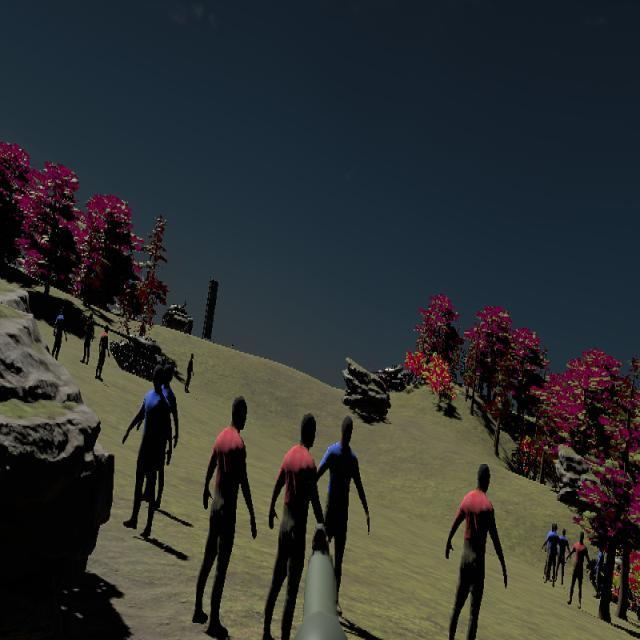Human: (265, 413, 332, 640), (196, 396, 257, 639), (444, 461, 508, 640), (121, 357, 179, 538), (564, 530, 592, 609), (564, 532, 592, 608), (541, 522, 562, 585)
Tank: (107, 327, 178, 382), (163, 302, 194, 335)
